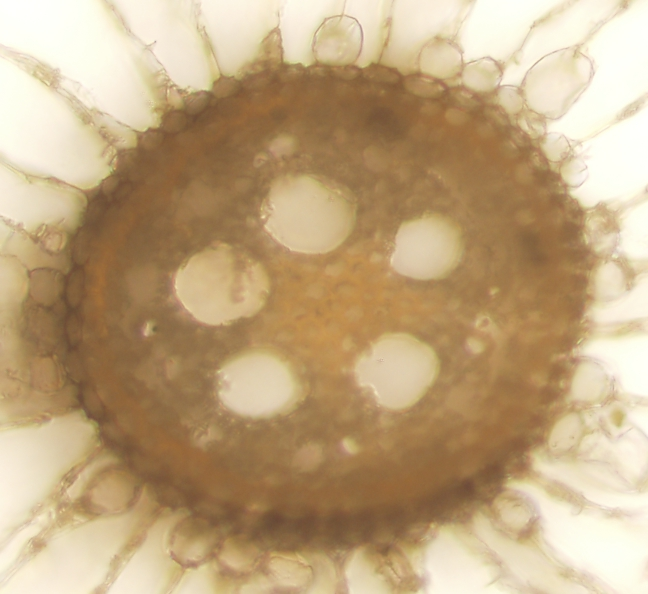lm: (172, 239, 271, 325), (260, 171, 356, 254), (352, 331, 440, 411), (213, 346, 307, 419), (389, 211, 463, 280)
